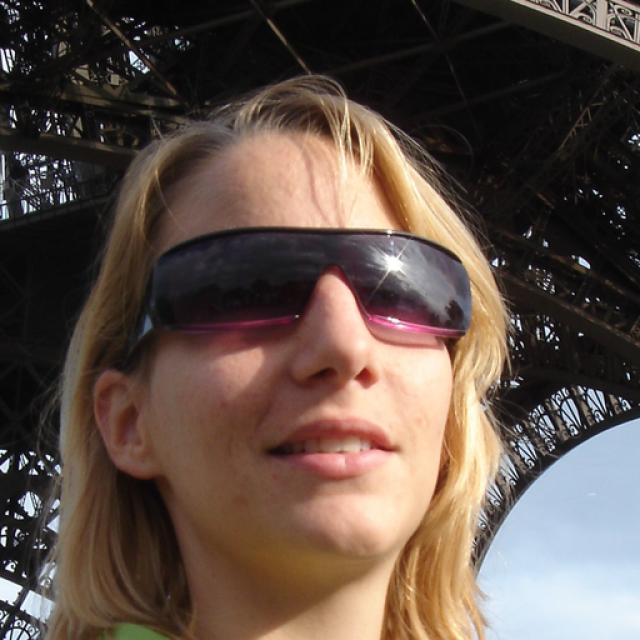neutral: (146, 136, 456, 562)
